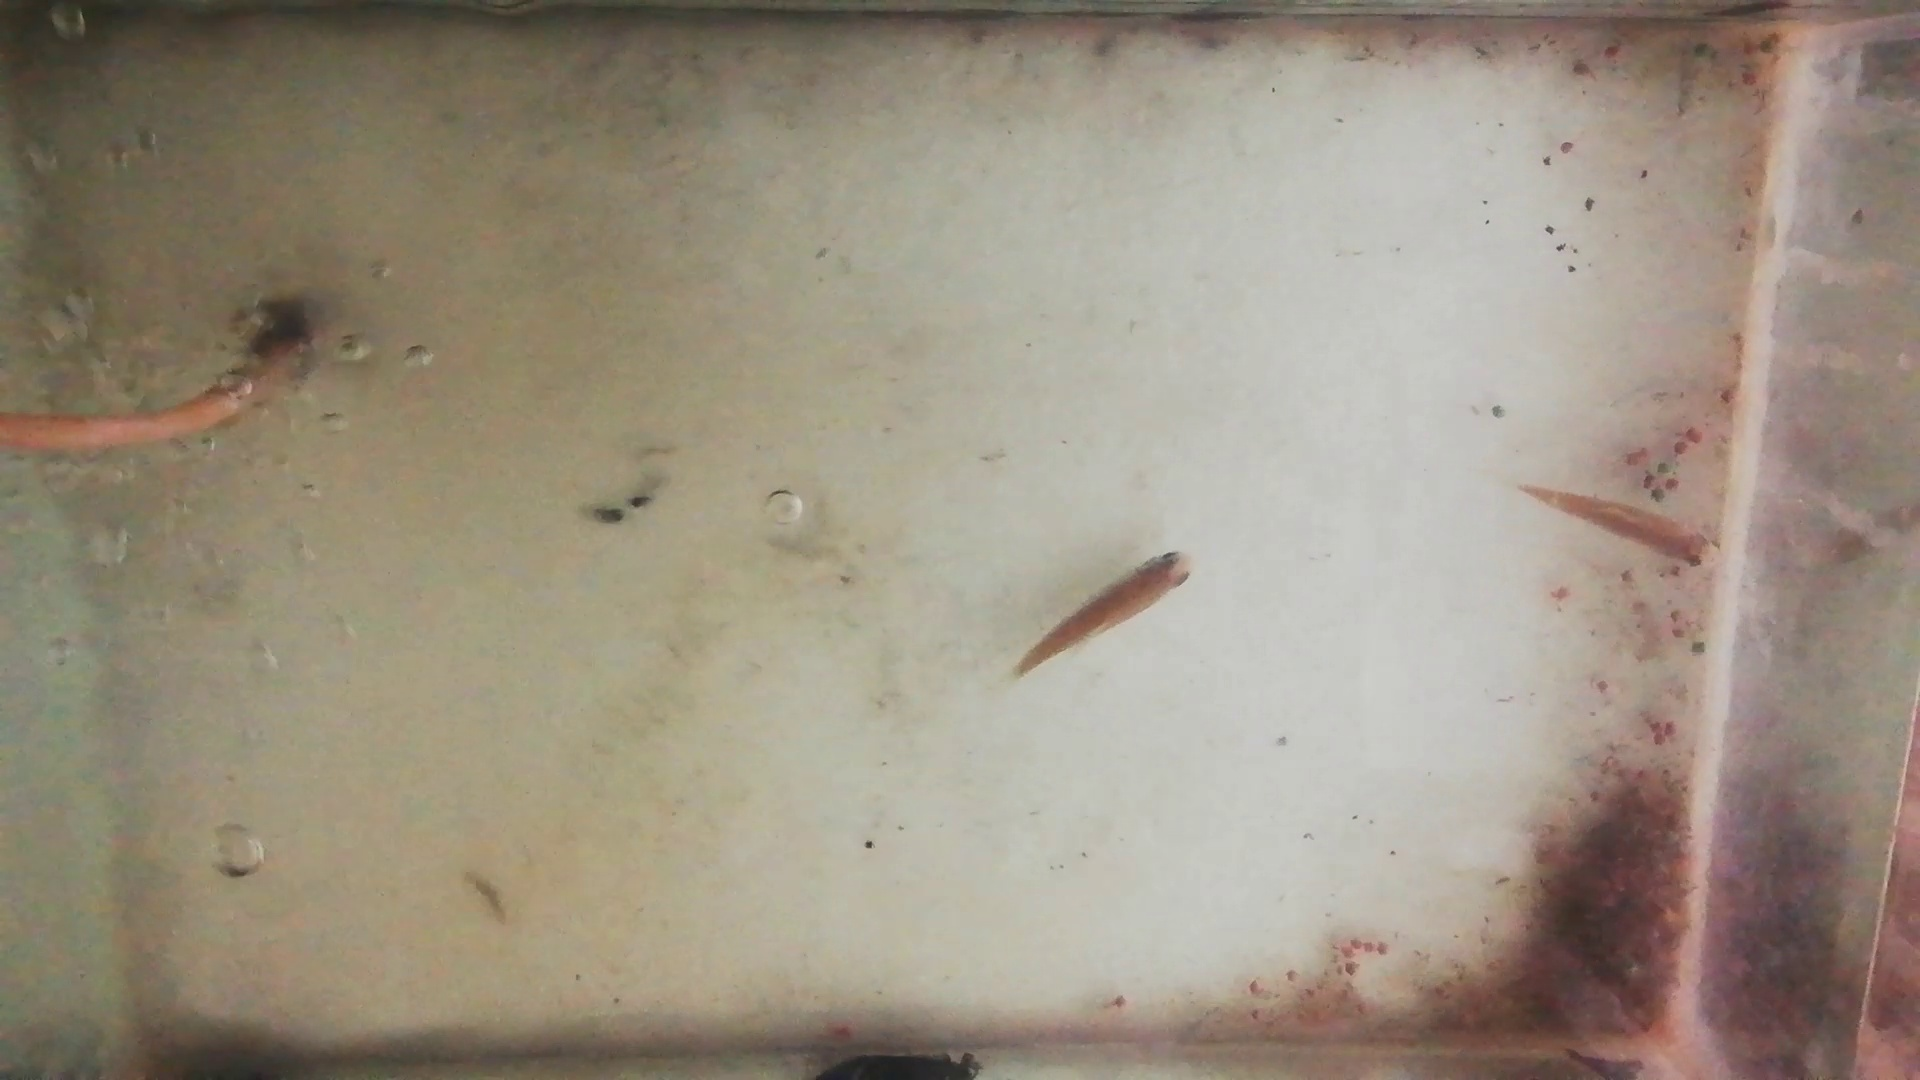fish: (1011, 550, 1195, 682), (1513, 483, 1720, 575)
